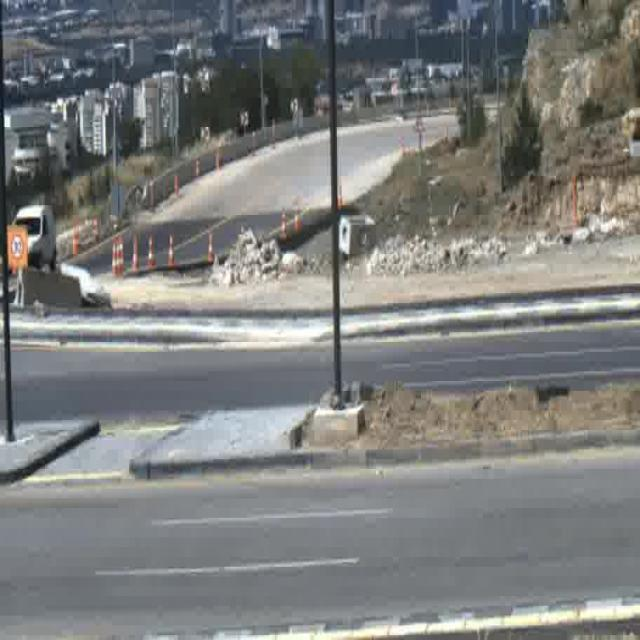Car: (9, 203, 56, 274)
